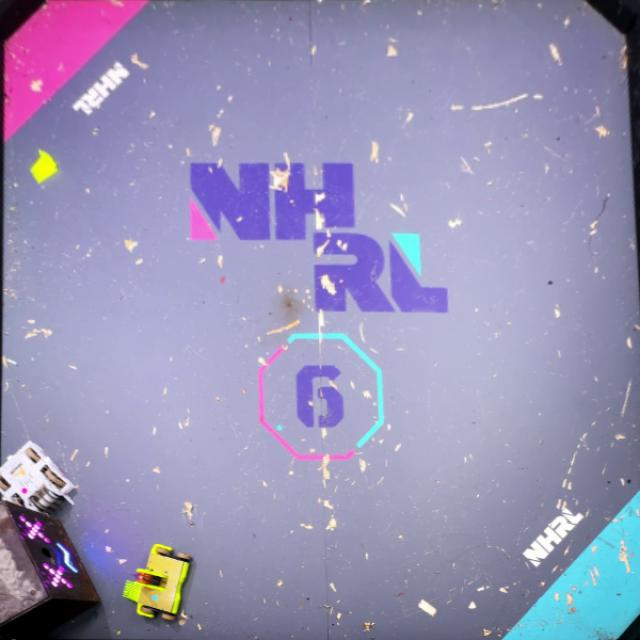housebot: (0, 497, 100, 639)
robot: (121, 543, 194, 623), (0, 440, 77, 515)
